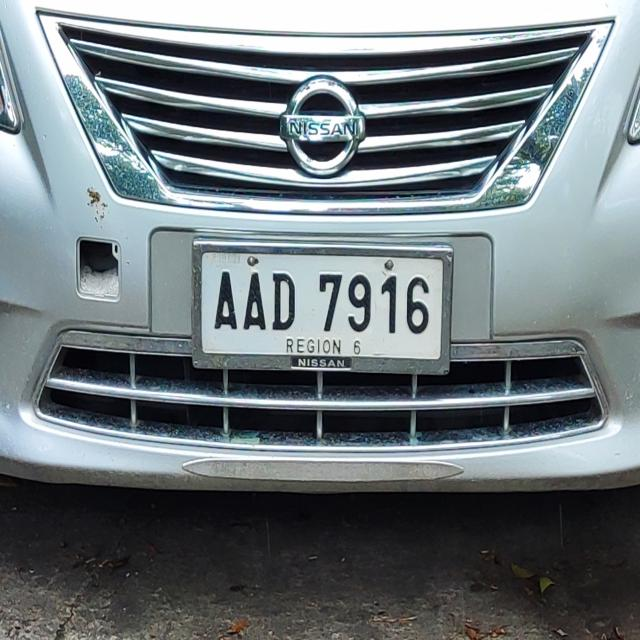plate: (190, 234, 455, 377)
